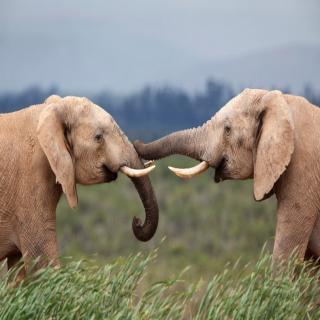Elephant: (137, 84, 320, 298), (0, 88, 162, 292)
